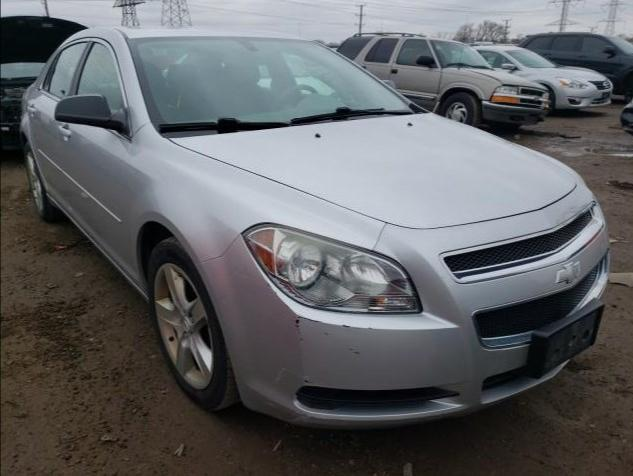Corrosion: (157, 266, 206, 387)
Missing part: (546, 307, 602, 372)
Paint chip: (297, 313, 321, 324), (294, 318, 304, 342), (304, 378, 313, 384), (323, 331, 331, 336), (348, 346, 354, 352), (352, 349, 358, 355), (368, 326, 373, 331), (342, 324, 348, 328)
Scratch: (255, 275, 307, 383), (272, 367, 311, 383), (279, 409, 318, 423)
